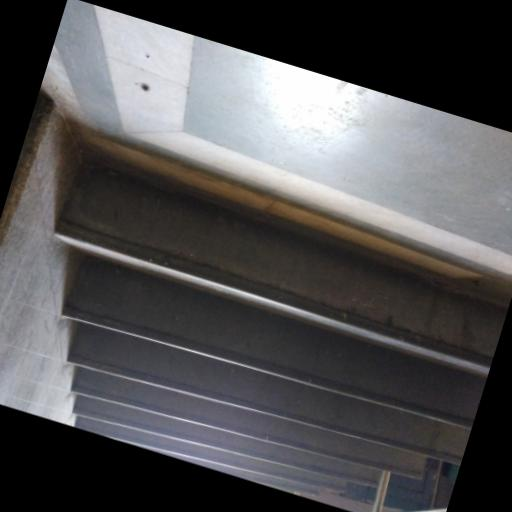stairs: (57, 166, 507, 494)
